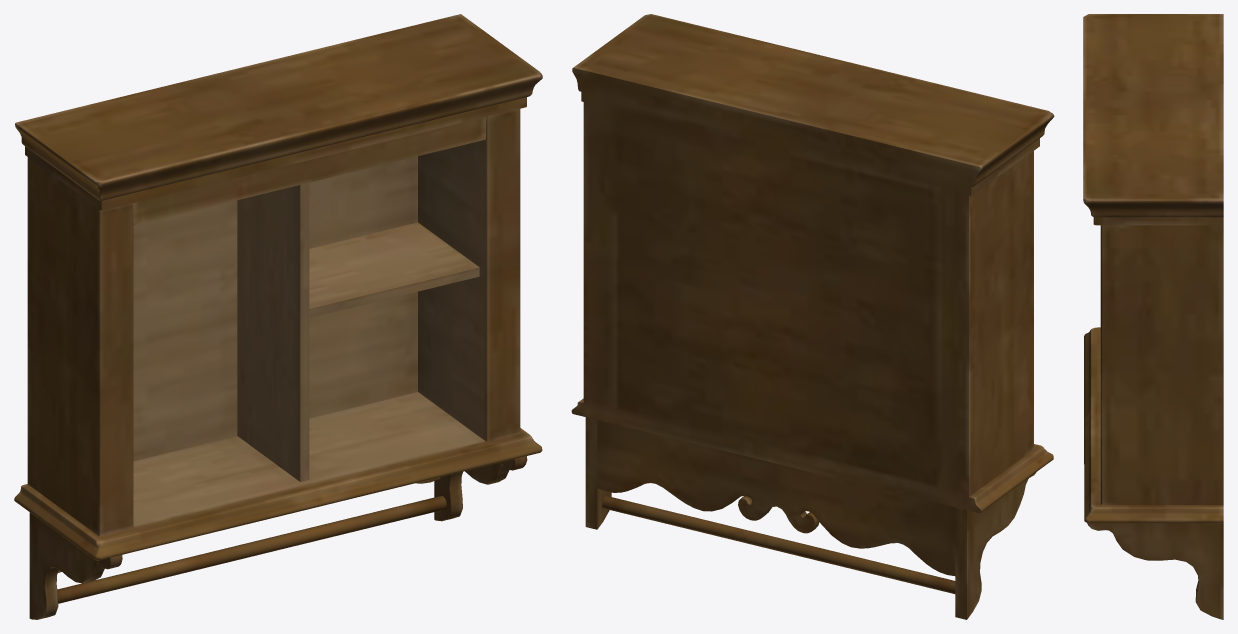
The model's file is SM_hanging_cupboard_8ea7db.glb.
The picture shows the model from 3 angles, left to right: view 1: azimuth 30°, elevation 25°; view 2: azimuth 150°, elevation 25°; view 3: azimuth 270°, elevation 25°; orthographic projection. The views are drawn at different scales.
Bounding box in the file's own units: 0.7577 × 0.807 × 0.2409.
1 material, 1 textured.
